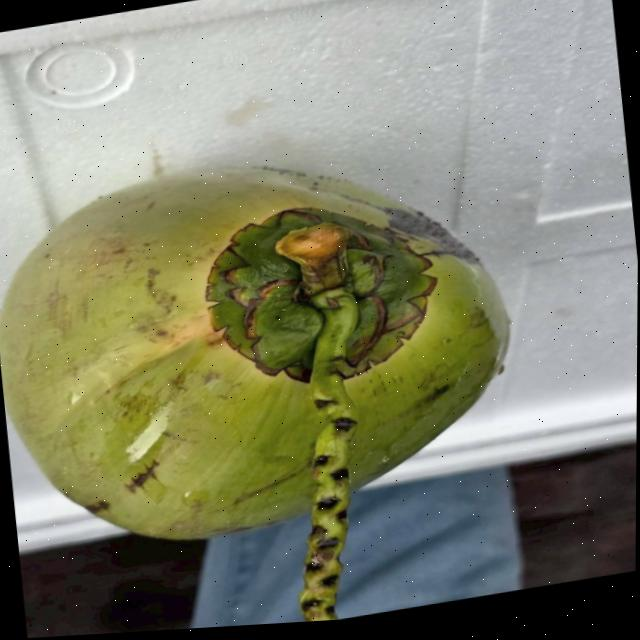coco_2.0: (157, 167, 468, 429)
